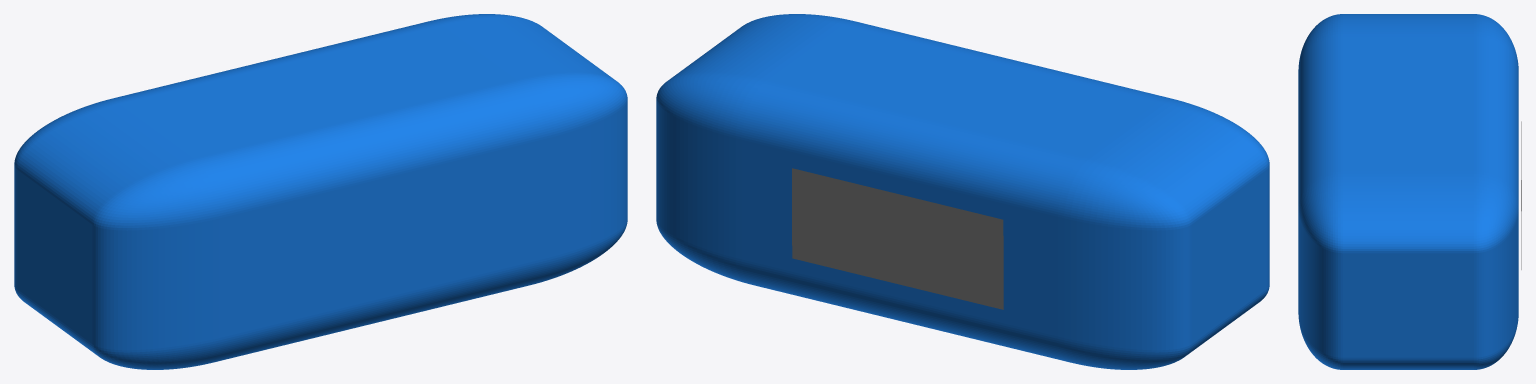
The model's file is button.gltf.
3 views of the same model, side by side, from view 1: azimuth 30°, elevation 25°; view 2: azimuth 150°, elevation 25°; view 3: azimuth 270°, elevation 25° (orthographic). The views are drawn at different scales.
Visible parts, largest first — view 1: button; view 2: button, button_text; view 3: button.
Boxes of the visible parts, <box> form: button: <box>14,14,627,369</box>; button: <box>656,14,1269,369</box>; button_text: <box>792,168,1003,309</box>; button: <box>1298,14,1518,369</box>.
Size of the model in its own units: 0.5407 by 0.1955 by 0.2247.
